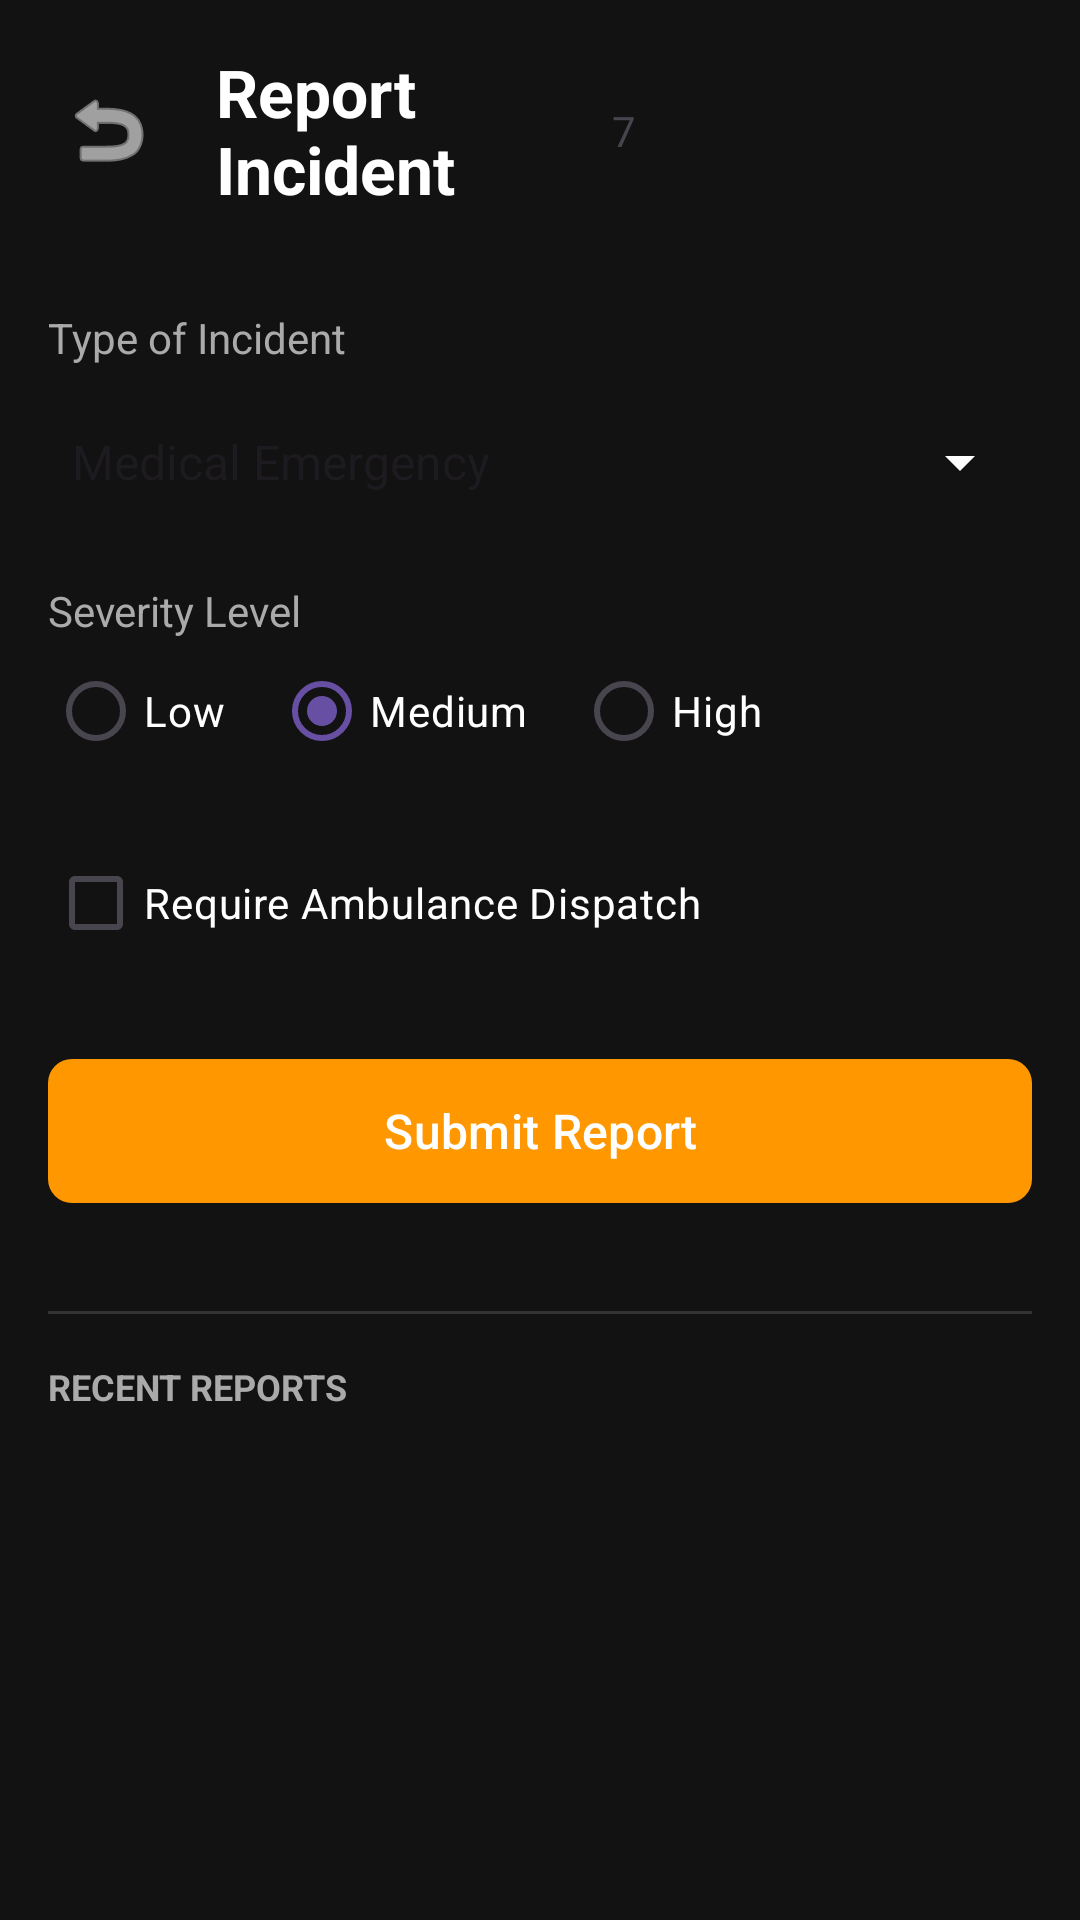

Where icons sit on this 1080*1920 app screen, as (x1, y1, x2, y2):
Back: (75, 99, 144, 162)
